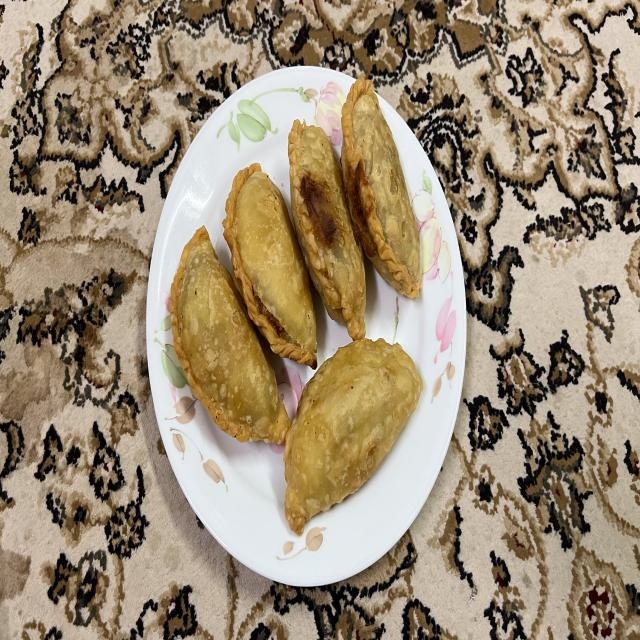karipap: (284, 338, 424, 536), (170, 227, 290, 444), (222, 162, 316, 369), (341, 78, 421, 298), (289, 120, 365, 340)
